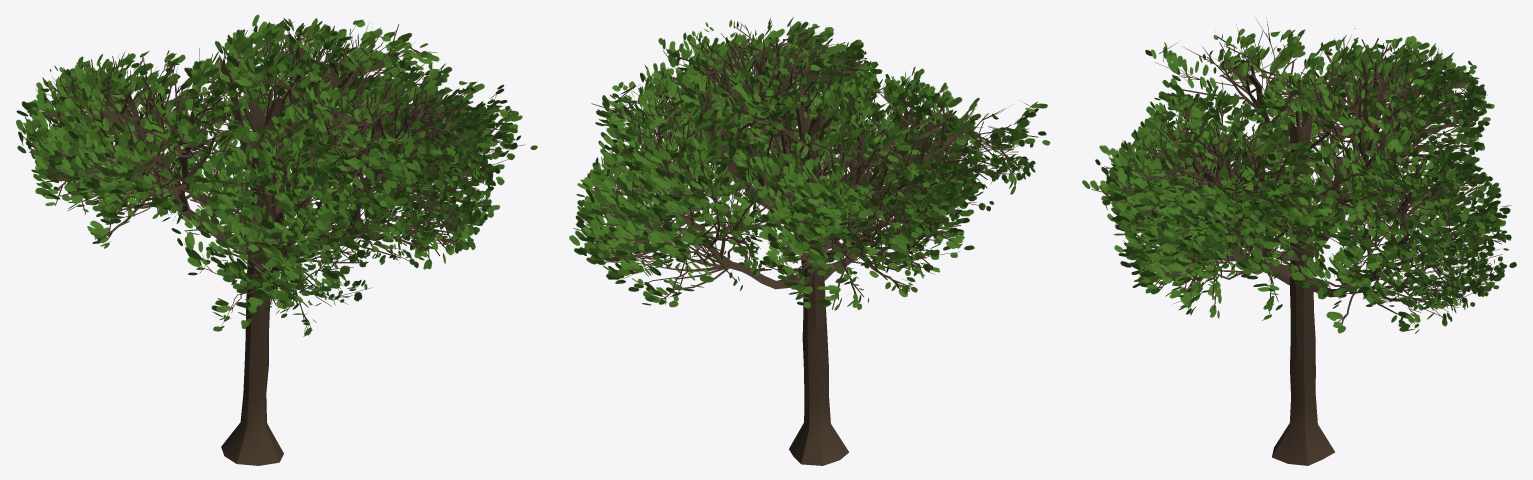
The picture shows the model from 3 angles, left to right: view 1: azimuth 30°, elevation 25°; view 2: azimuth 150°, elevation 25°; view 3: azimuth 270°, elevation 25°; orthographic projection. The views are drawn at different scales.
Parts seen in each view (by area): view 1: oak 01.001_trunk_Mat.001_0.161; view 2: oak 01.001_trunk_Mat.001_0.161; view 3: oak 01.001_trunk_Mat.001_0.161.
Part boxes in pixels (x1,y1,x2,y2): oak 01.001_trunk_Mat.001_0.161: (16, 14, 537, 465); oak 01.001_trunk_Mat.001_0.161: (569, 17, 1050, 465); oak 01.001_trunk_Mat.001_0.161: (1082, 17, 1516, 465).
Bounding box in the file's own units: 6.58 × 5.52 × 6.09.
Materials: 2 (1 with a texture image).
